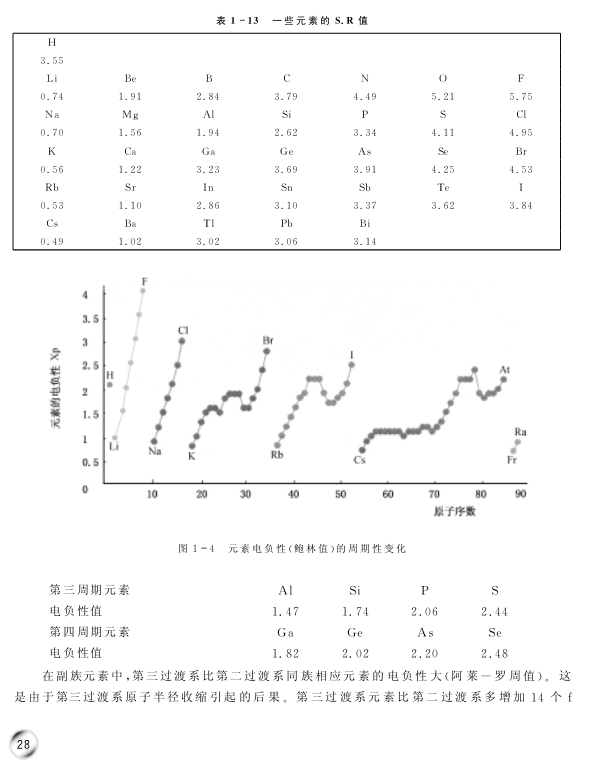table: (11, 31, 560, 250), (49, 583, 508, 658)
